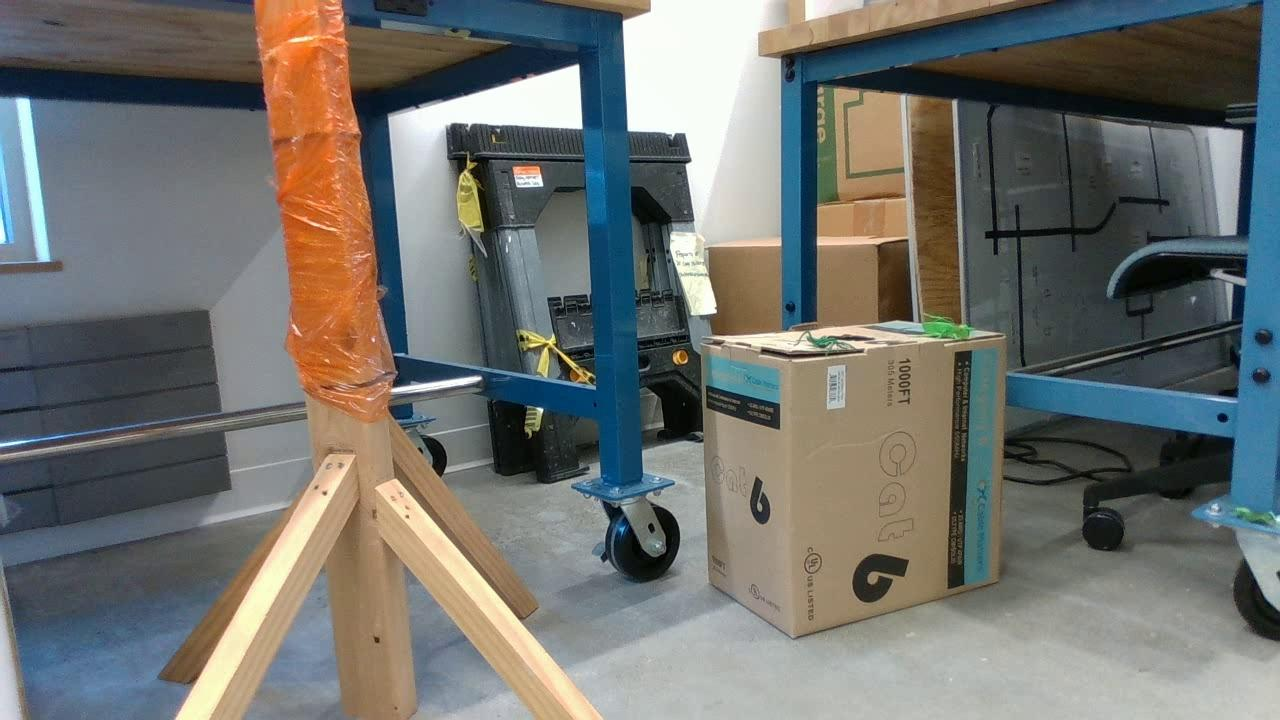grasshopper: (916, 319, 977, 343)
